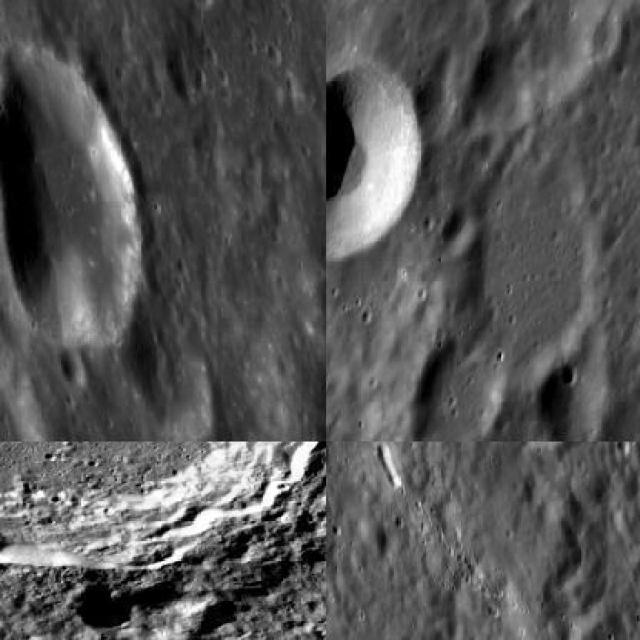crater: (0, 46, 143, 348), (0, 442, 291, 560), (326, 65, 423, 263), (0, 303, 48, 440)
